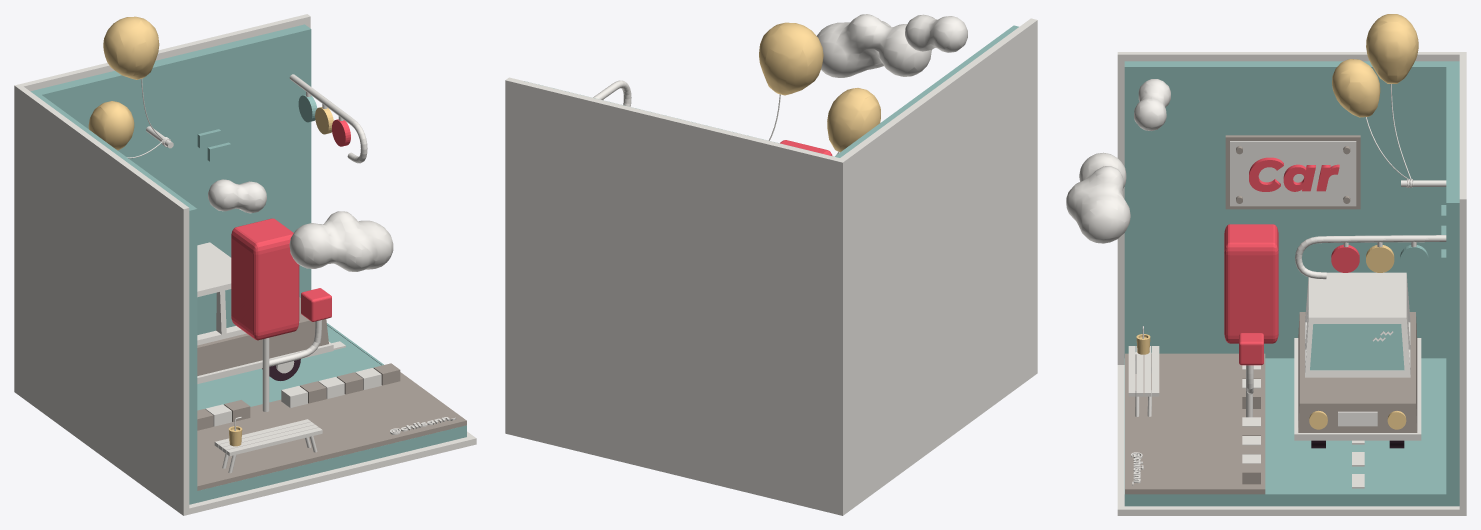
Rendered from Road.glb.
3 views of the same model, side by side, from view 1: azimuth 30°, elevation 25°; view 2: azimuth 150°, elevation 25°; view 3: azimuth 270°, elevation 25° (orthographic). The views are drawn at different scales.
Visible parts, largest first — view 1: Car; view 2: Car; view 3: Car.
Part boxes in pixels (<box>): Car: <box>14,14,476,515</box>; Car: <box>505,14,1037,515</box>; Car: <box>1066,14,1466,515</box>.
Size of the model in its own units: 6.29 by 7.79 by 7.22.
